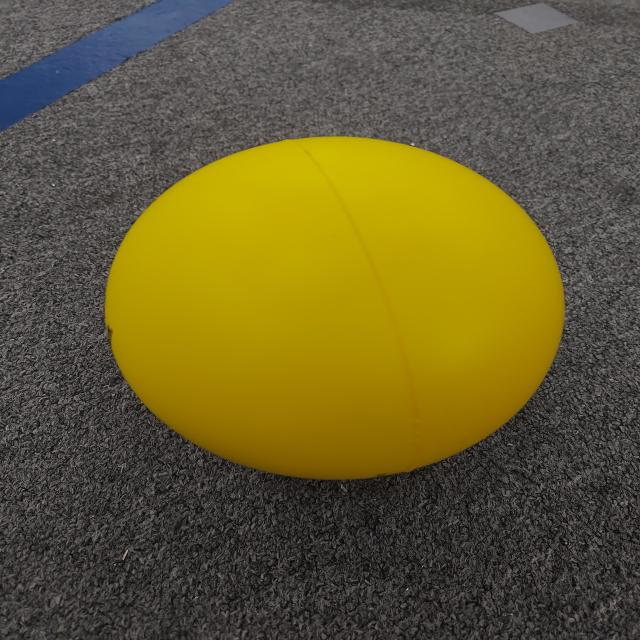Fuel: (104, 136, 565, 480)
